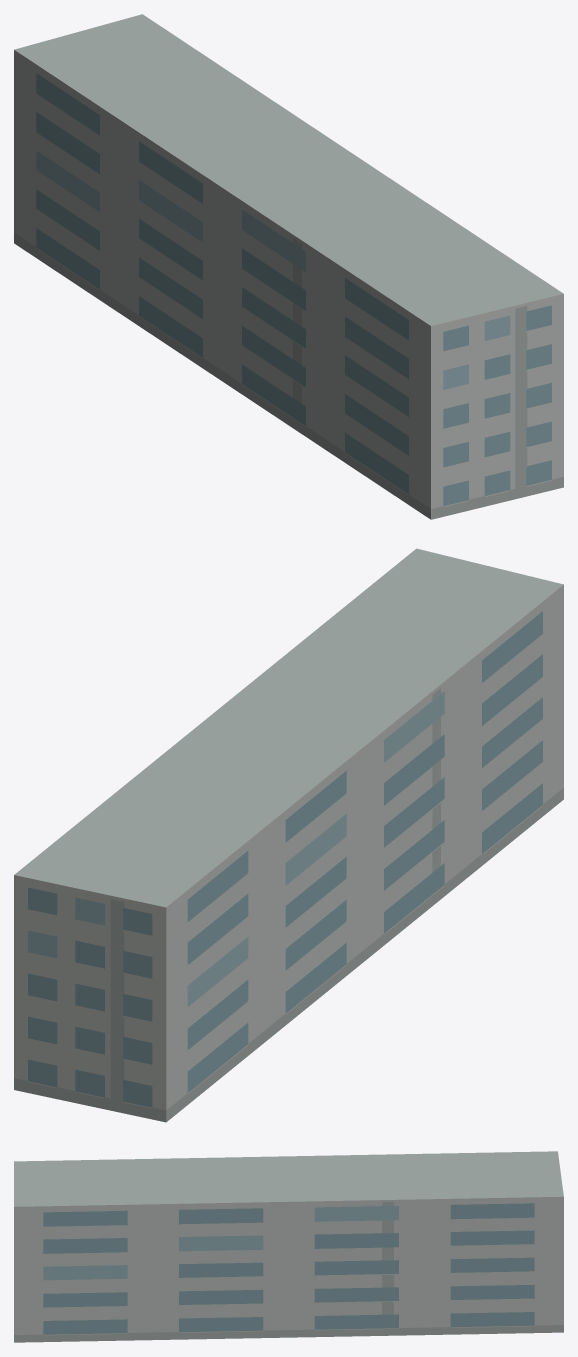
File: residential-56bc272a-b850-4252-b4c2-f81db8ae517a.glb
The picture shows the model from 3 angles, top to bottom: view 1: azimuth 30°, elevation 25°; view 2: azimuth 150°, elevation 25°; view 3: azimuth 270°, elevation 25°; orthographic projection. The views are drawn at different scales.
Visible parts, largest first — view 1: residential-56bc272a-b850-4252-b4c2-f81db8ae517a.tmp; view 2: residential-56bc272a-b850-4252-b4c2-f81db8ae517a.tmp; view 3: residential-56bc272a-b850-4252-b4c2-f81db8ae517a.tmp.
Part boxes in pixels (x1=…): residential-56bc272a-b850-4252-b4c2-f81db8ae517a.tmp: x1=14, y1=14, x2=563, y2=519; residential-56bc272a-b850-4252-b4c2-f81db8ae517a.tmp: x1=14, y1=548, x2=563, y2=1122; residential-56bc272a-b850-4252-b4c2-f81db8ae517a.tmp: x1=14, y1=1151, x2=563, y2=1342.
Size of the model in its own units: 13.38 by 15.25 by 55.97.
